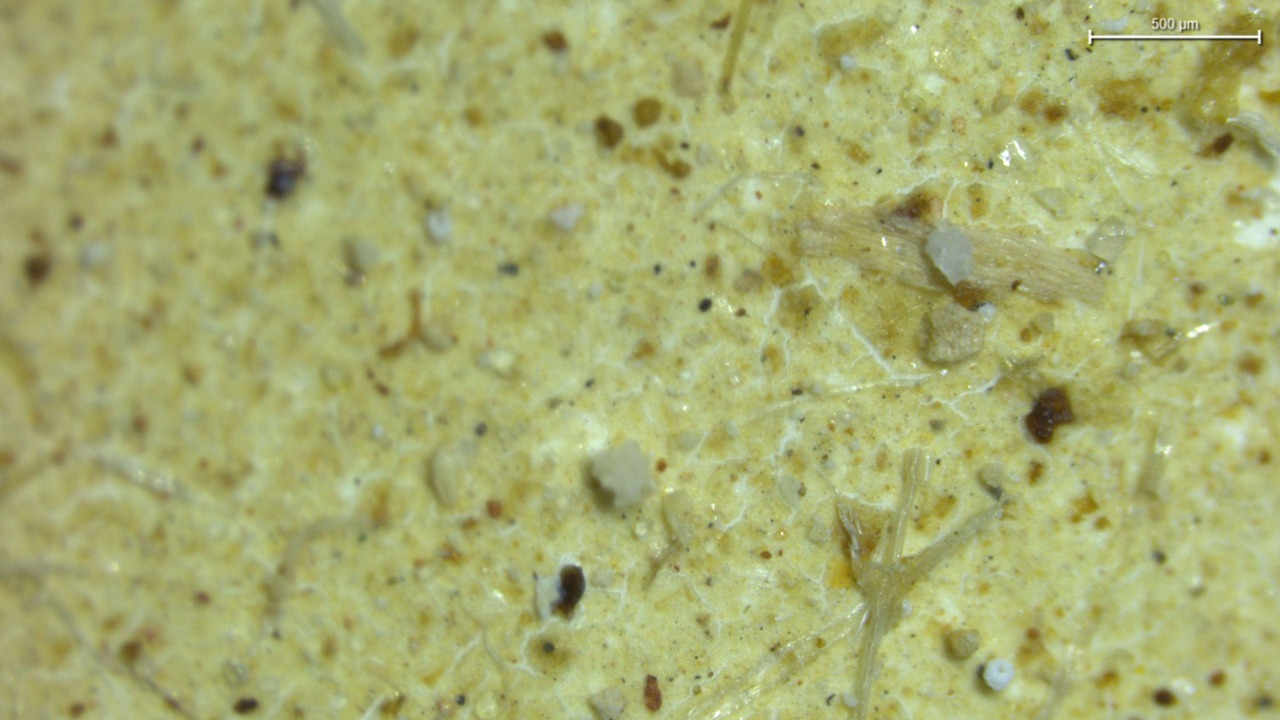microplastic_fragment: (591, 439, 659, 505), (922, 300, 985, 362), (931, 222, 975, 285), (983, 658, 1012, 692), (948, 630, 980, 658)
